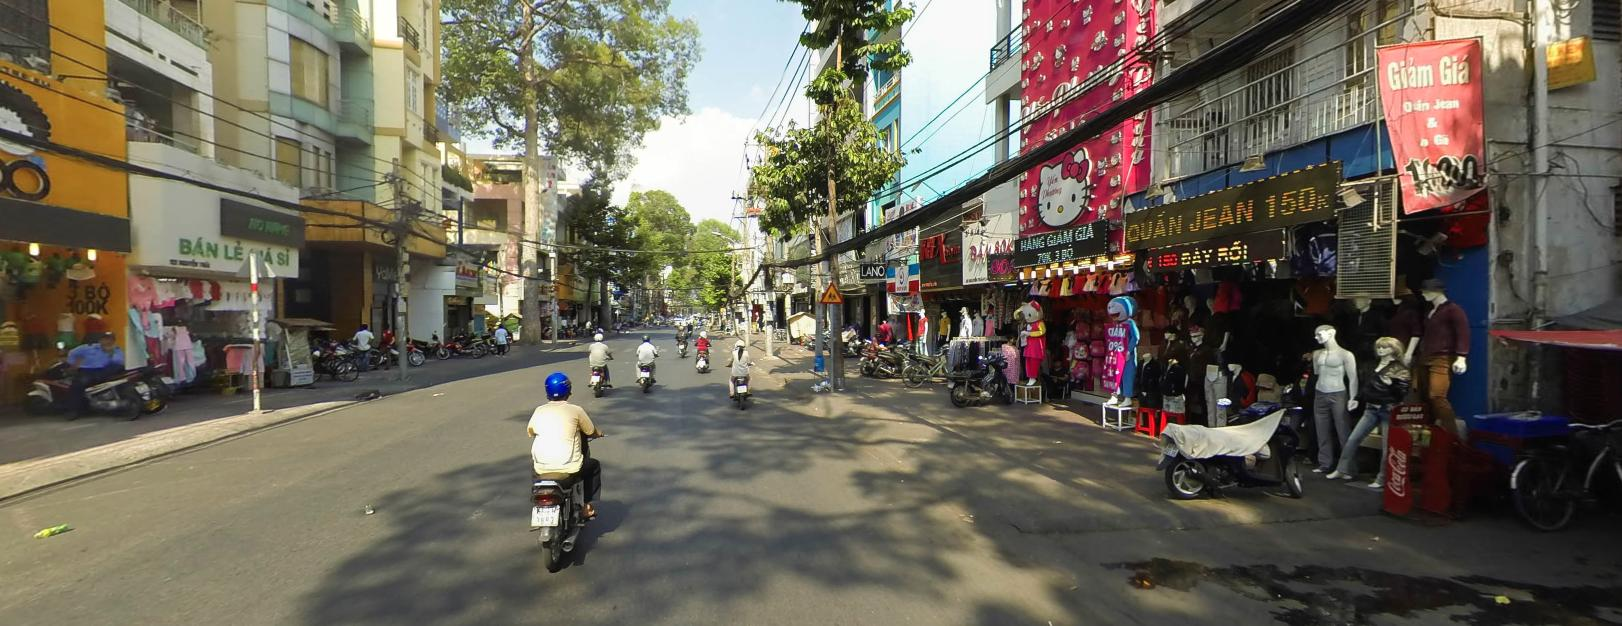Nguy hiem: (819, 281, 843, 302)
